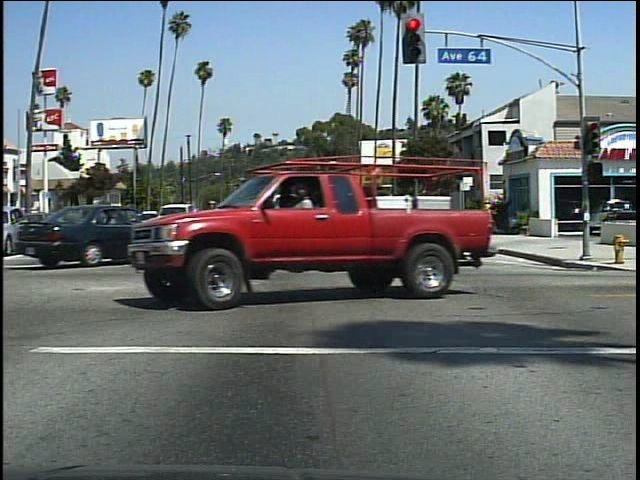person: (290, 176, 330, 295), (476, 200, 500, 236)
